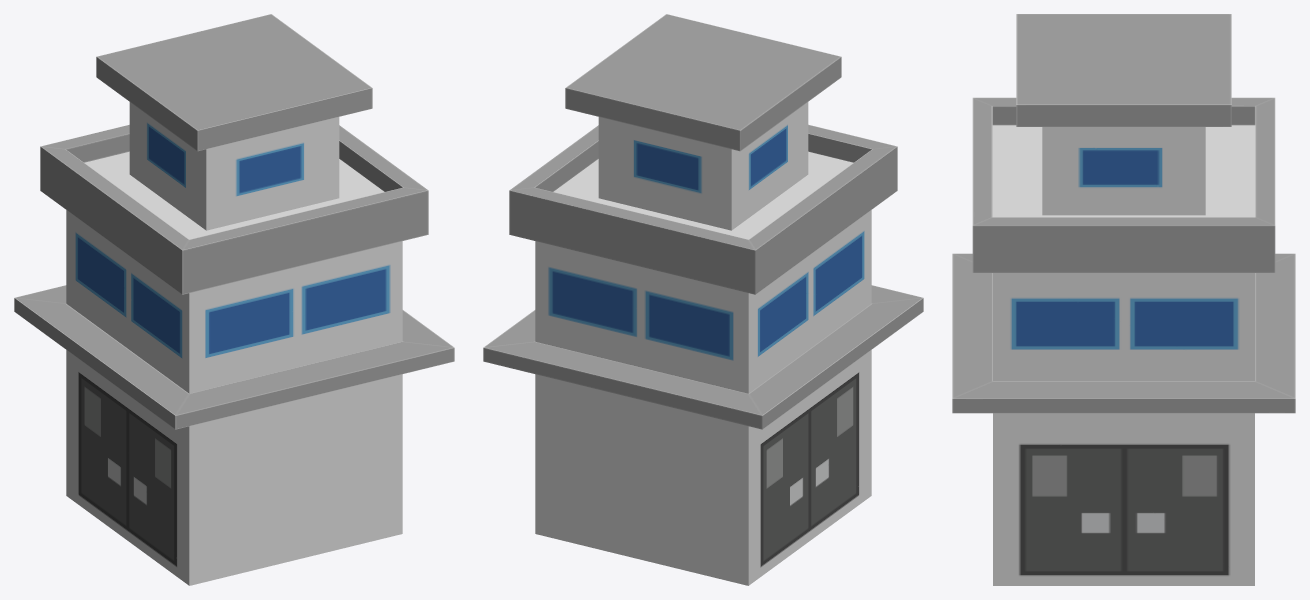
File: GuardPoint_02.fbx
The picture shows the model from 3 angles, left to right: view 1: azimuth 30°, elevation 25°; view 2: azimuth 150°, elevation 25°; view 3: azimuth 270°, elevation 25°; orthographic projection. The views are drawn at different scales.
Parts seen in each view (by area): view 1: GuardPoint_02_Body; view 2: GuardPoint_02_Body; view 3: GuardPoint_02_Body.
Boxes of the visible parts, x1,y1,x2,y2 form: GuardPoint_02_Body: (14,14,454,585); GuardPoint_02_Body: (483,14,923,585); GuardPoint_02_Body: (952,14,1295,585).
Bounding box in the file's own units: 32.76 × 49.63 × 32.76.
